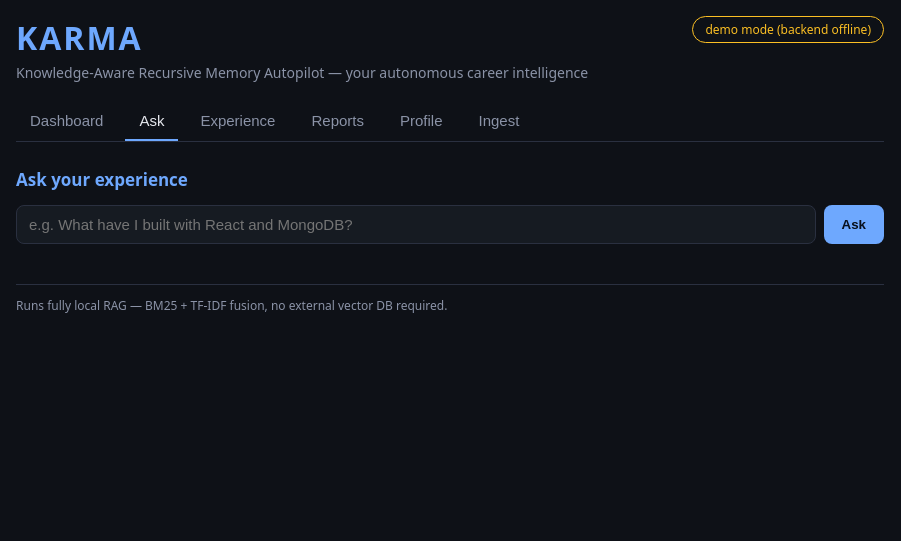
Test case: Experience panel › shows entries with skills from the API
The image size is (901, 541).
Step 1. Click the button with test id "tab-Experience" → (238, 122), box [186,102,289,141]
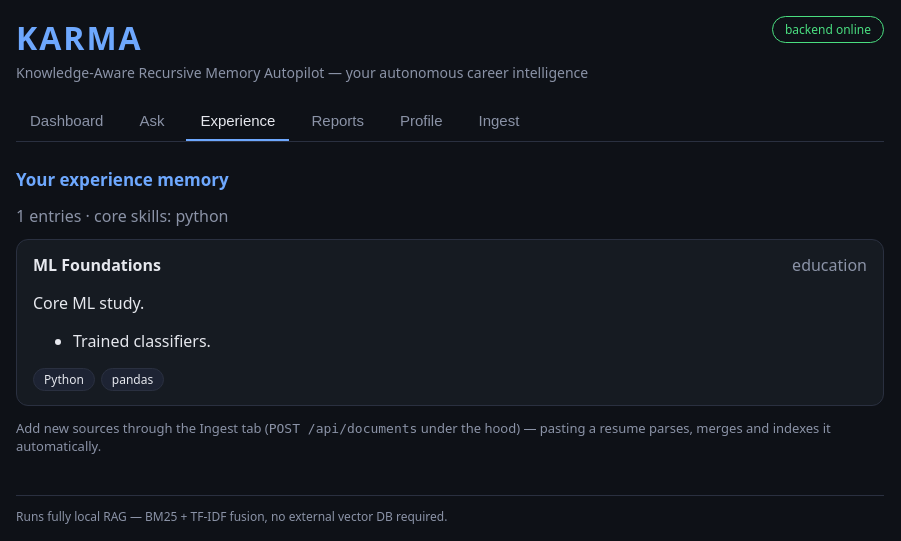
Now the number of elements with test id "experience-card" is 1, box [16,239,884,406]
Now the text "ML Foundations" is shown, box [33,254,161,276]
Now the text "1 entries · core skills: python" is shown, box [16,205,228,227]
